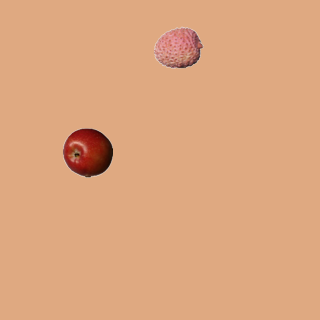Apple Braeburn: (62, 127, 112, 177)
Lychee: (153, 22, 203, 72)
